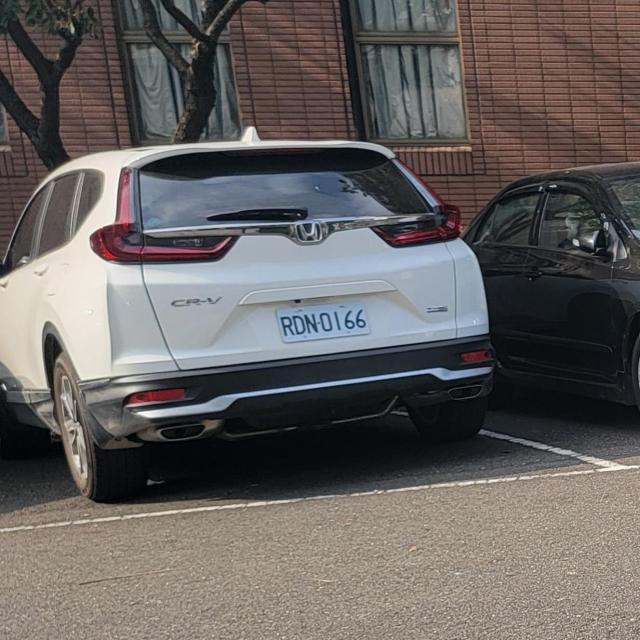W: (272, 293, 374, 346)
